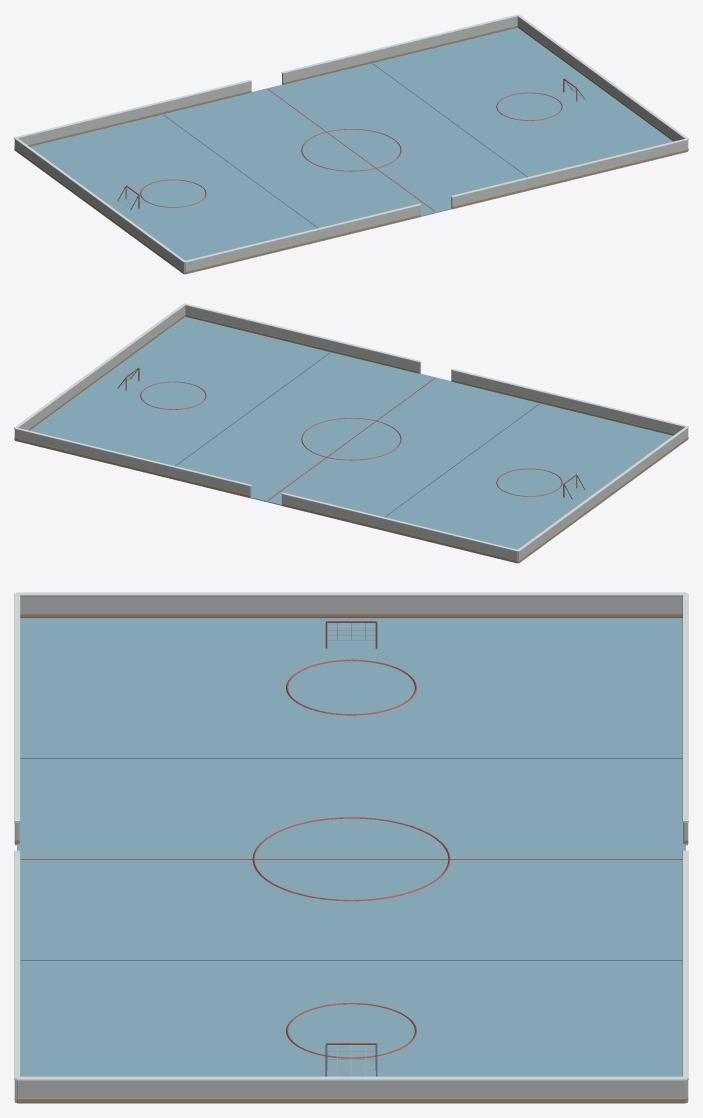
Rendered from resort_ice_rink.glb.
3 views of the same model, one above another, from view 1: azimuth 30°, elevation 25°; view 2: azimuth 150°, elevation 25°; view 3: azimuth 270°, elevation 25° (orthographic). The views are drawn at different scales.
Visible parts, largest first — view 1: resort_ice_rink; view 2: resort_ice_rink; view 3: resort_ice_rink.
Boxes of the visible parts, <box> form: resort_ice_rink: <box>14,14,688,274</box>; resort_ice_rink: <box>14,303,688,563</box>; resort_ice_rink: <box>14,592,688,1103</box>.
Bounding box in the file's own units: 48.26 × 1.34 × 28.26.
